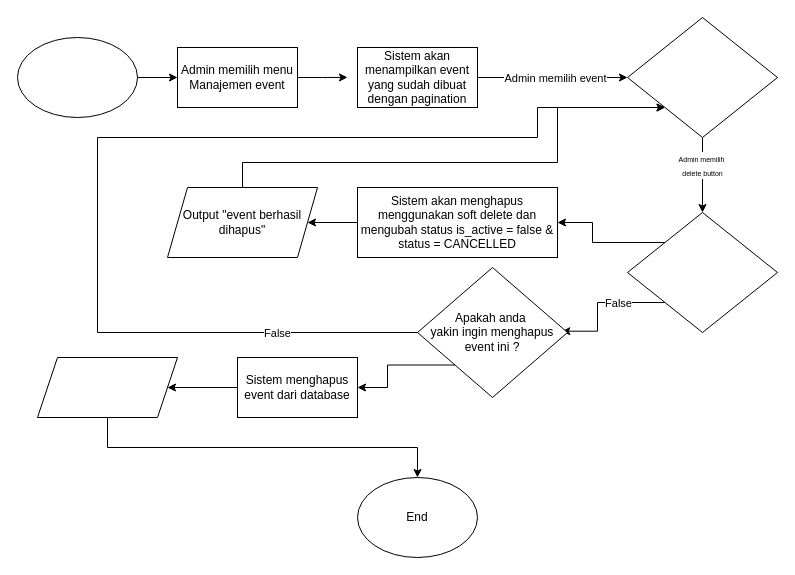
Image size: 795x575. Some labels were removed from this diagram. Each missing label, with the centre of its shape:
Apakah admin memilih button add event / edit event / delete event ?: [702,77]
Apakah sudah ada tiket yang berstatus SOLD (Terjual)?: [702,272]
Output "Event berhasil dihapus secara permanen": [107,387]
Start: [77,77]
